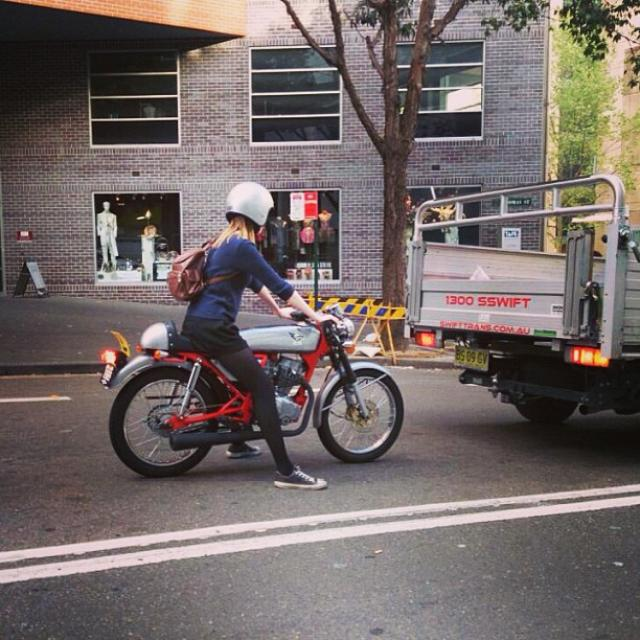motor: (92, 314, 416, 485)
